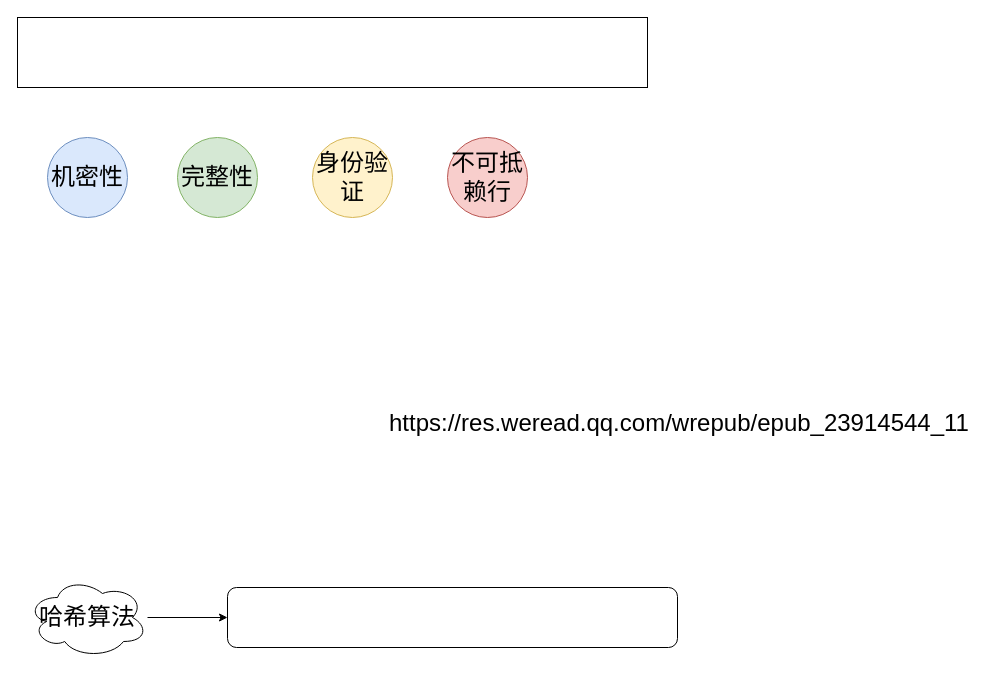
Some shapes in this 987 by 675 pixel diagram are drawn without their labels. Each missing label, with the centre of its shape:
密码学: the point at 332,52
摘要/散列值/指纹=hash（消息）: the point at 452,617
